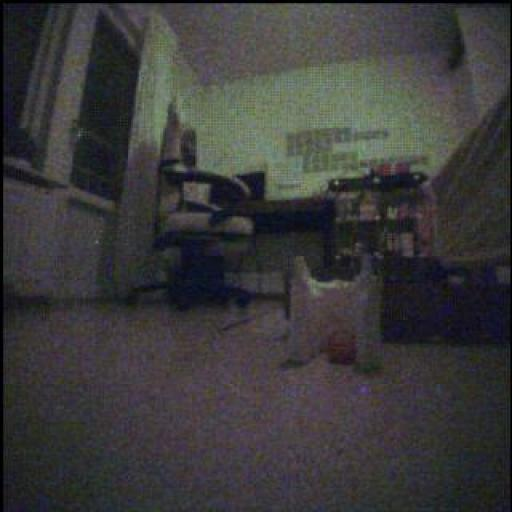basket: (327, 327, 358, 365)
